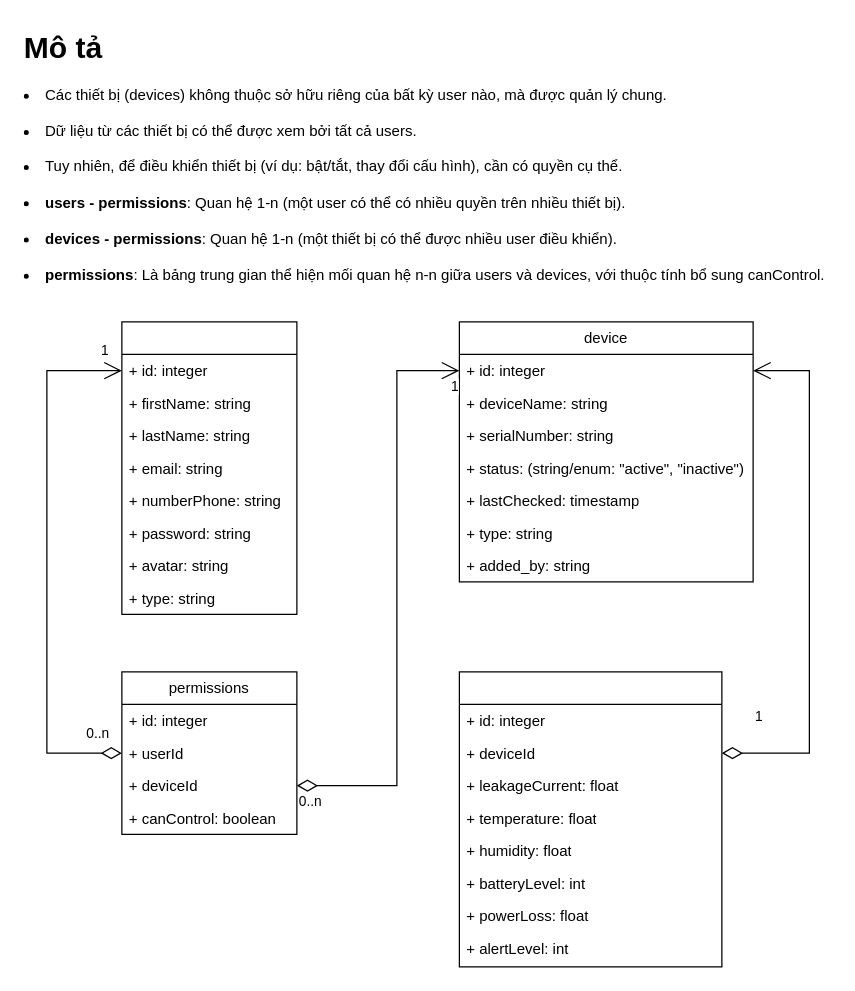
Some shapes in this 855 by 991 pixel diagram are drawn without their labels. Each missing label, with the box of its shape:
Measurement: (458, 671, 722, 967)
users: (121, 321, 297, 614)
